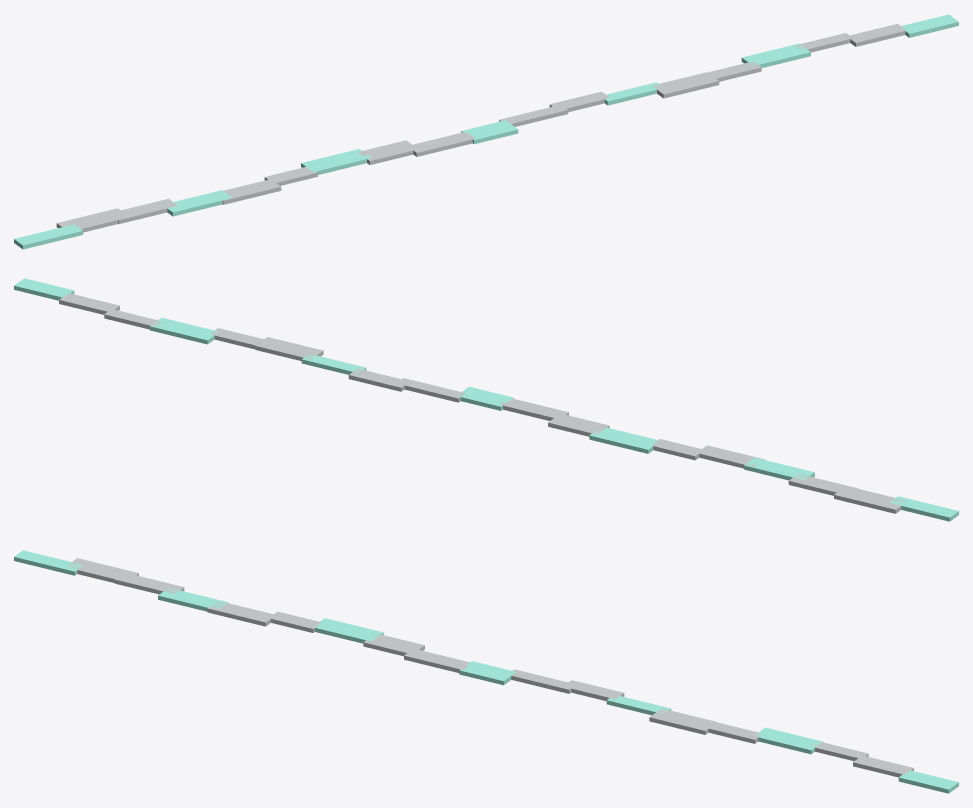
Rendered from foam.glb.
3 views of the same model, one above another, from view 1: azimuth 30°, elevation 25°; view 2: azimuth 150°, elevation 25°; view 3: azimuth 330°, elevation 25° (orthographic).
Visible parts, largest first — view 1: Foam; view 2: Foam; view 3: Foam.
Part boxes in pixels (<box>): Foam: <box>14,14,958,249</box>; Foam: <box>14,278,958,521</box>; Foam: <box>14,550,958,793</box>.
Size of the model in its own units: 19.13 by 0.08 by 0.725.
